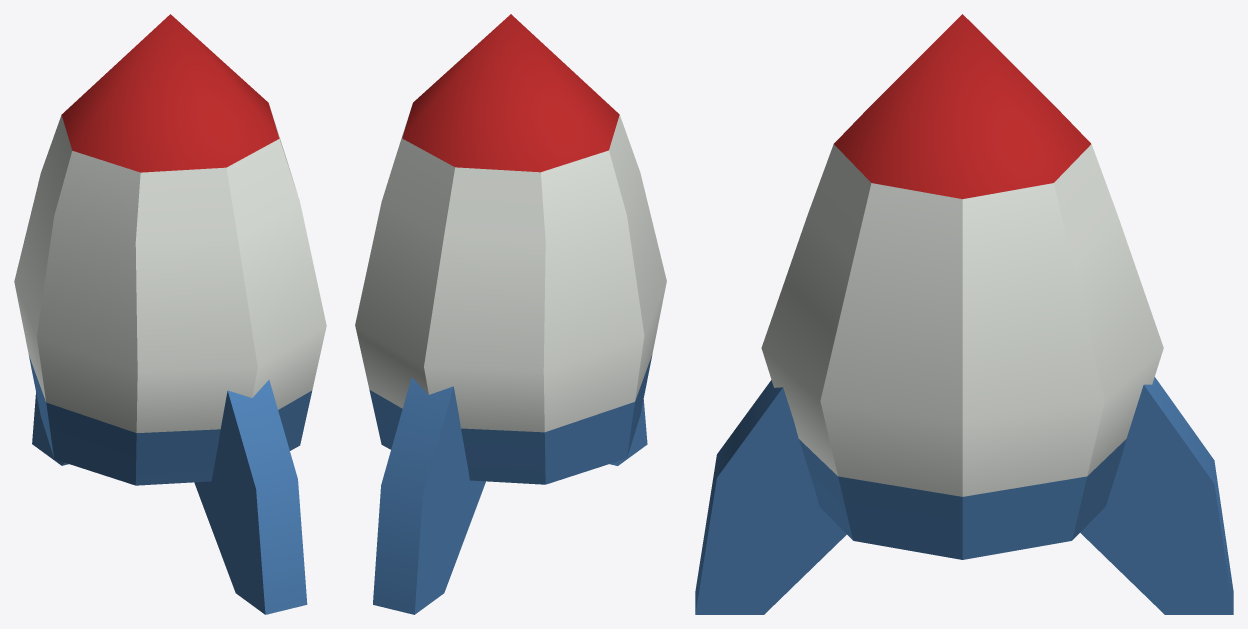
File: PudgeyRocket.fbx
3 renders of one model, left to right at view 1: azimuth 30°, elevation 25°; view 2: azimuth 150°, elevation 25°; view 3: azimuth 270°, elevation 25°, orthographic. The views are drawn at different scales.
Parts seen in each view (by area): view 1: pCylinder1, pCube1, pCube2; view 2: pCylinder1, pCube2, pCube1; view 3: pCylinder1, pCube2, pCube1.
Boxes of the visible parts, x1,y1,x2,y2 form: pCylinder1: [14, 14, 326, 485]; pCube1: [194, 380, 307, 614]; pCube2: [32, 393, 68, 465]; pCylinder1: [355, 14, 666, 484]; pCube2: [373, 377, 485, 614]; pCube1: [609, 399, 647, 465]; pCylinder1: [761, 14, 1163, 559]; pCube2: [1080, 377, 1233, 614]; pCube1: [695, 380, 846, 614].
Bounding box in the file's own units: 2.3 × 4.2 × 3.48.
1 material, 1 textured.
